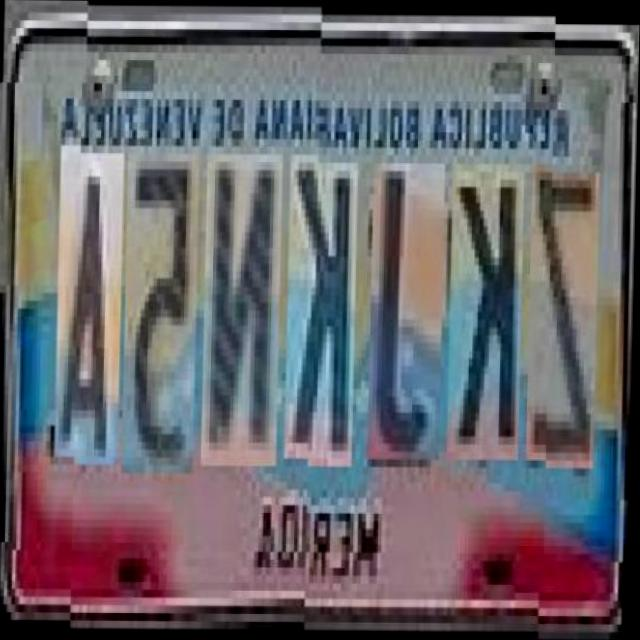5: (124, 153, 201, 473)
a: (56, 153, 125, 465)
j: (369, 154, 446, 451)
k: (449, 155, 526, 452), (287, 154, 359, 459)
n: (202, 154, 284, 466)
z: (528, 155, 602, 452)
